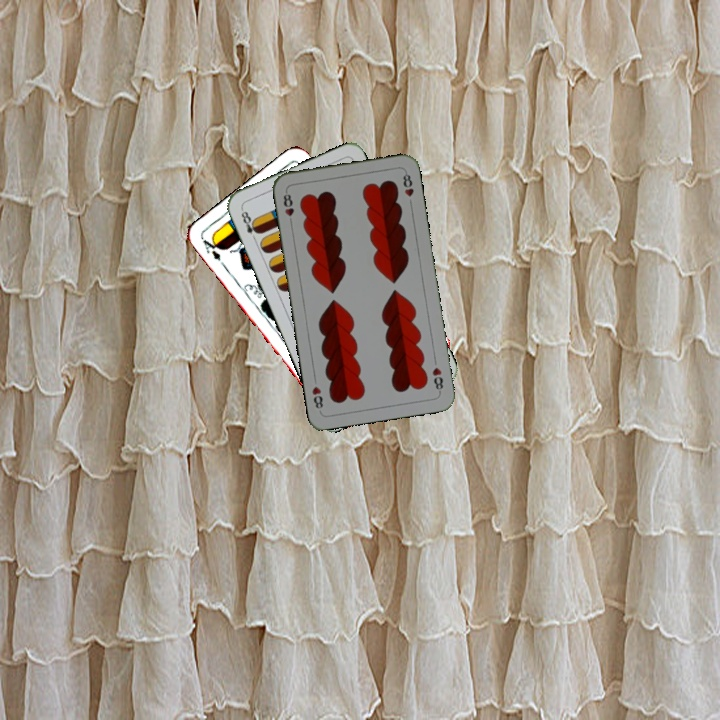E8: (237, 205, 262, 243)
EA: (198, 234, 224, 263)
H8: (279, 187, 296, 228), (428, 363, 446, 395)
